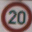20 km speed: (1, 1, 31, 32)
